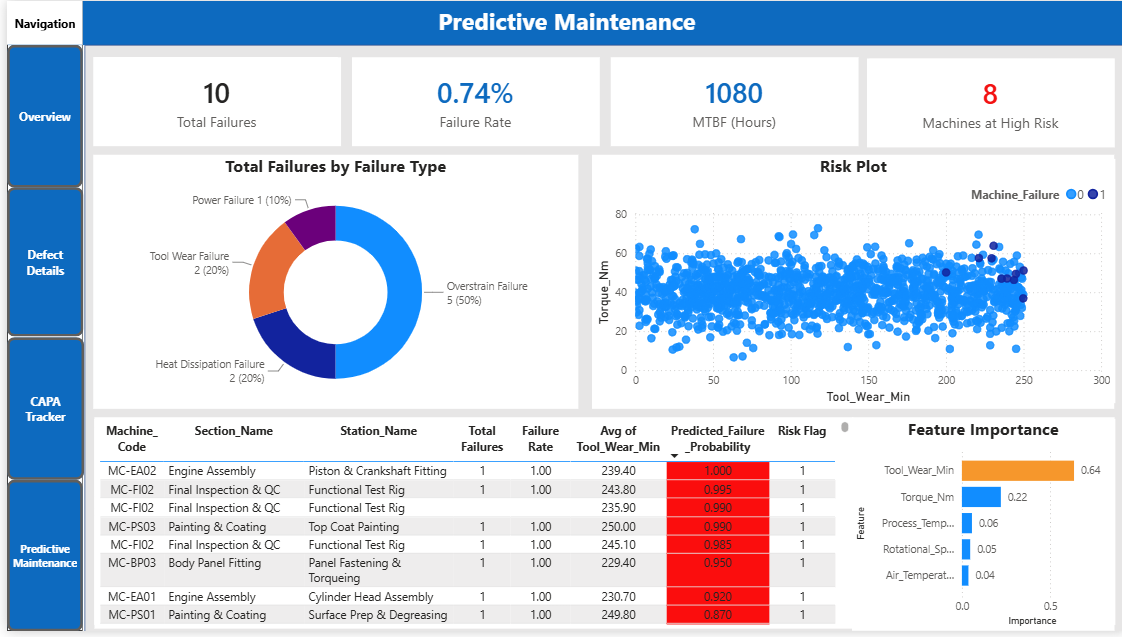

What the dashboard file says about the page in this screenshot:
{"tool":"powerbi","page":{"name":"Predictive Maintenance","canvas":[1280,720],"ordinal":4},"visuals":[{"type":"textbox","box":[0,0,1280,50],"z":0},{"type":"shape","title":"navigation bar border","box":[0,0,86.7,720],"z":1000},{"type":"actionButton","title":"Overview Button","box":[0,50,86.7,163.3],"z":2000},{"type":"actionButton","title":"Defect Details Button","box":[0,213.3,87.3,170.7],"z":3000},{"type":"actionButton","title":"CAPA Tracker Button","box":[0,384,88,163],"z":4000},{"type":"actionButton","title":"Predictive MaintenanceButton","box":[0,546.7,86.7,173.3],"z":5000},{"type":"shape","box":[0,0,86.7,50],"z":8000},{"type":"image","box":[88.6,50,1191.4,670],"z":9000},{"type":"cardVisual","fields":{"Data":["Fact_MachineSensor.Total Failures"]},"box":[98.6,64.3,282.9,101.4],"z":10000},{"type":"cardVisual","fields":{"Data":["Fact_MachineSensor.Failure Rate"]},"box":[394.3,64.3,282.9,101.4],"z":11000},{"type":"cardVisual","fields":{"Data":["Fact_MachineSensor.MTBF (Hours)"]},"box":[690,64.3,282.9,101.4],"z":12000},{"type":"donutChart","title":"Total Failures by Failure Type","fields":{"Category":["Fact_MachineSensor.Failure_Type"],"Y":["Fact_MachineSensor.Total Failures"]},"box":[98.6,175.7,554.3,290],"z":13000},{"type":"scatterChart","title":"Risk Plot","fields":{"X":["Fact_MachineSensor.Tool_Wear_Min"],"Y":["Fact_MachineSensor.Torque_Nm"],"Series":["Fact_MachineSensor.Machine_Failure"]},"box":[668.6,175.7,597.1,290],"z":14000},{"type":"tableEx","fields":{"Values":["Dim_Station.Machine_Code","Dim_Station.Section_Name","Dim_Station.Station_Name","Fact_MachineSensor.Total Failures","Fact_MachineSensor.Failure Rate","Avg(Fact_MachineSensor.Tool_Wear_Min)","Fact_MachineSensor.Predicted_Failure_Probability","Fact_MachineSensor.Predicted_Failure"]},"box":[100,475.7,867.1,241.4],"z":15000},{"type":"cardVisual","fields":{"Data":["Fact_MachineSensor.Machines at High Risk"]},"box":[982.9,65.7,282.9,101.4],"z":16000},{"type":"clusteredBarChart","title":"Feature Importance","fields":{"Category":["Feature_Importance.Feature"],"Y":["Sum(Feature_Importance.Importance)"]},"box":[965.7,475.7,300,244.3],"z":17000}]}

Visuals, with their boxes in screenshot pixels (x1, y1, x2, y2), scaled from the page's 1280x720 canvas onto the 1122x637 screenshot:
textbox: bbox=[0, 0, 1121, 44]
"navigation bar border" shape: bbox=[0, 0, 76, 636]
"Overview Button" actionButton: bbox=[0, 44, 76, 189]
"Defect Details Button" actionButton: bbox=[0, 189, 77, 340]
"CAPA Tracker Button" actionButton: bbox=[0, 340, 77, 484]
"Predictive MaintenanceButton" actionButton: bbox=[0, 484, 76, 636]
shape: bbox=[0, 0, 76, 44]
image: bbox=[78, 44, 1121, 636]
cardVisual - Fact_MachineSensor.Total Failures: bbox=[86, 57, 334, 147]
cardVisual - Fact_MachineSensor.Failure Rate: bbox=[346, 57, 594, 147]
cardVisual - Fact_MachineSensor.MTBF (Hours): bbox=[605, 57, 853, 147]
"Total Failures by Failure Type" donutChart: bbox=[86, 155, 572, 412]
"Risk Plot" scatterChart: bbox=[586, 155, 1109, 412]
tableEx - Dim_Station.Machine_Code x Dim_Station.Section_Name: bbox=[88, 421, 848, 634]
cardVisual - Fact_MachineSensor.Machines at High Risk: bbox=[862, 58, 1110, 148]
"Feature Importance" clusteredBarChart: bbox=[846, 421, 1109, 636]
